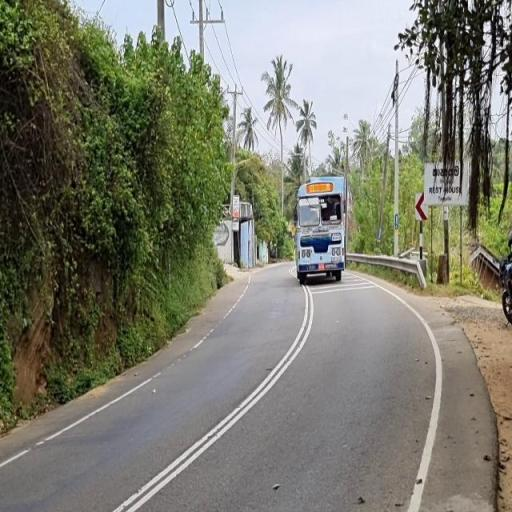double_white_line: (109, 288, 313, 512)
